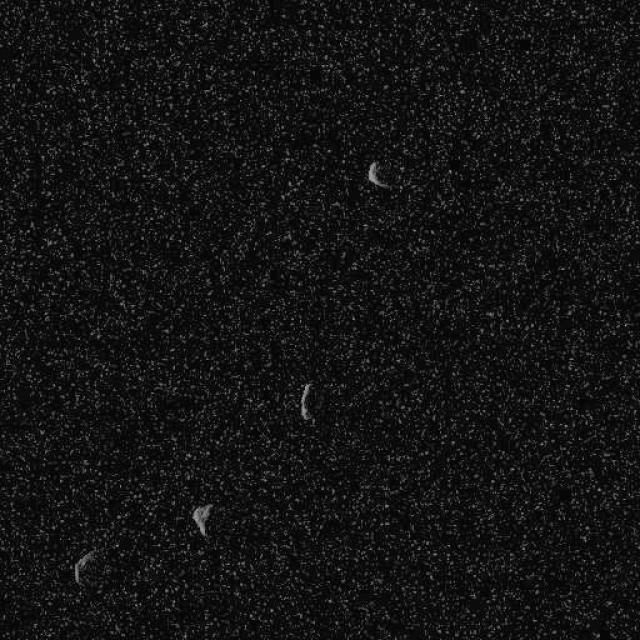D2: (73, 548, 99, 588), (190, 502, 212, 538), (365, 159, 391, 189), (299, 380, 315, 421)
